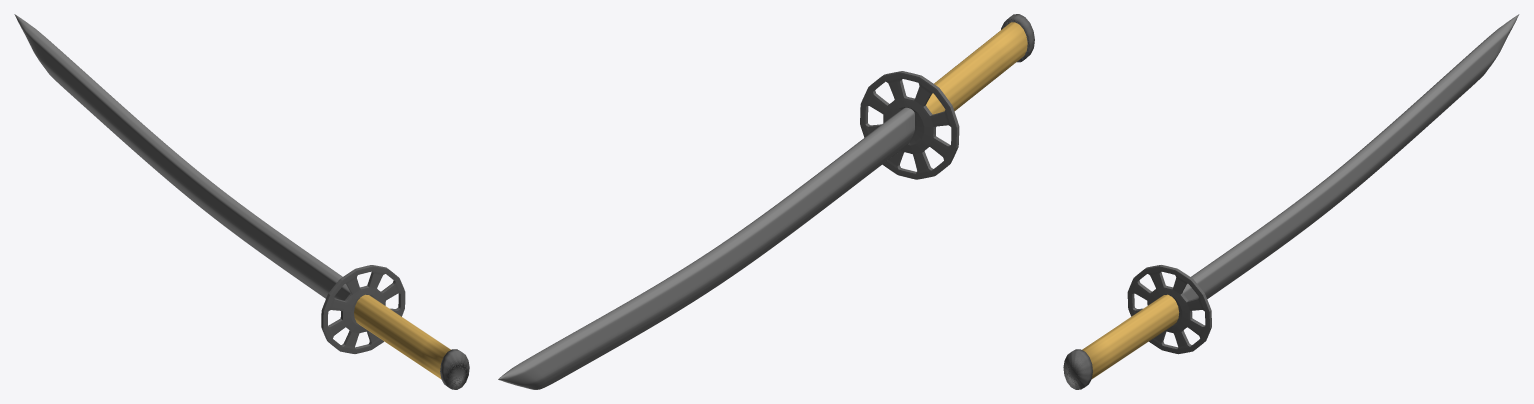
File: katana.fbx
3 renders of one model, left to right at view 1: azimuth 30°, elevation 25°; view 2: azimuth 150°, elevation 25°; view 3: azimuth 330°, elevation 25°, orthographic. The views are drawn at different scales.
Parts seen in each view (by area): view 1: tsuba.001; view 2: tsuba.001; view 3: tsuba.001.
Boxes of the visible parts, x1,y1,x2,y2 form: tsuba.001: [14, 14, 469, 389]; tsuba.001: [498, 14, 1034, 389]; tsuba.001: [1063, 14, 1519, 389].
Bounding box in the file's own units: 186 × 186 × 1750.
